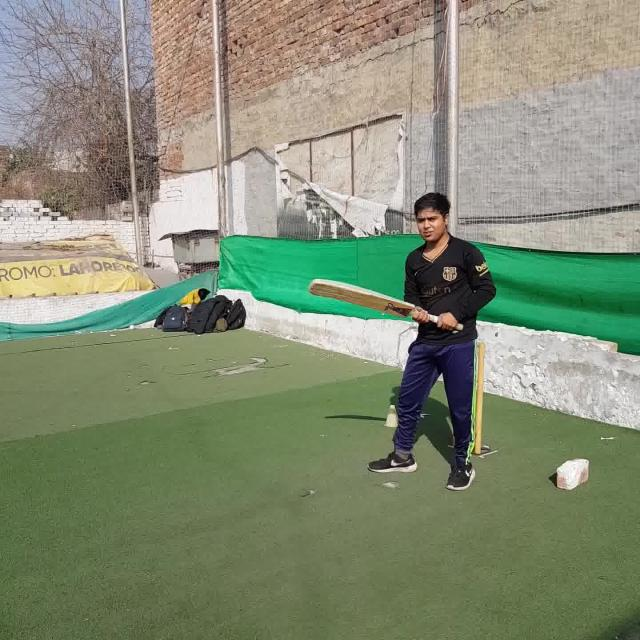bat: (308, 276, 465, 331)
